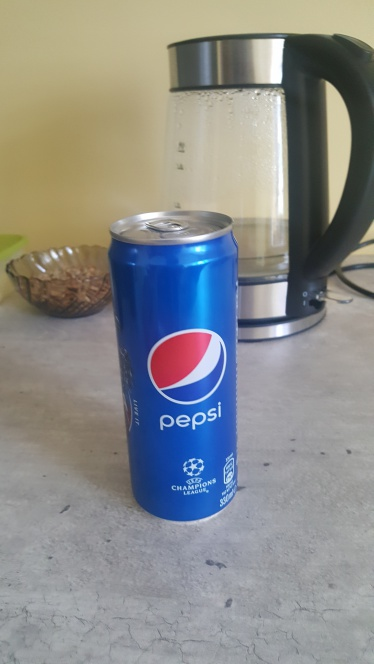pepsi: (100, 199, 266, 534)
